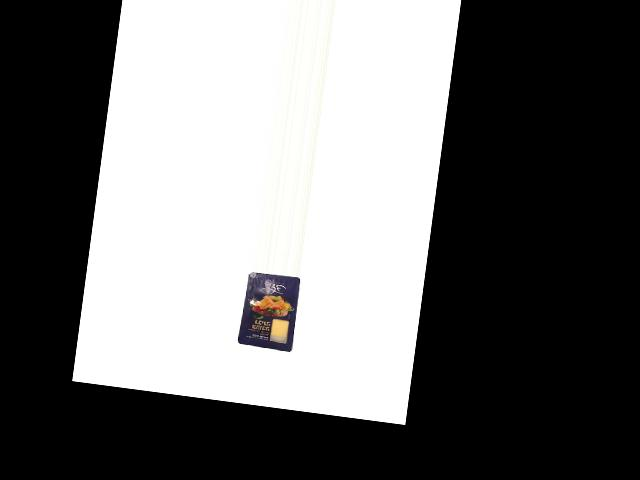cheese: (235, 269, 301, 352)
